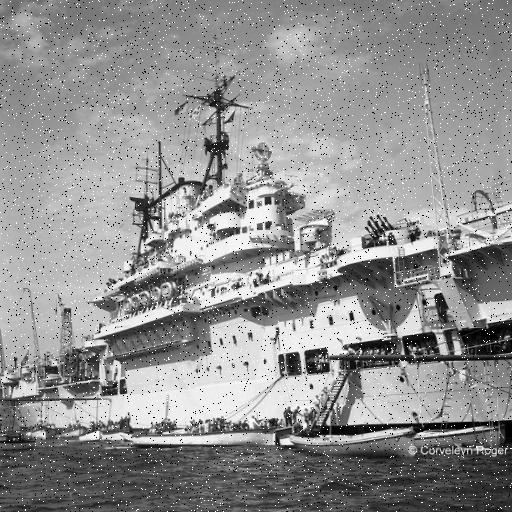Portanaves: (8, 34, 507, 443)
